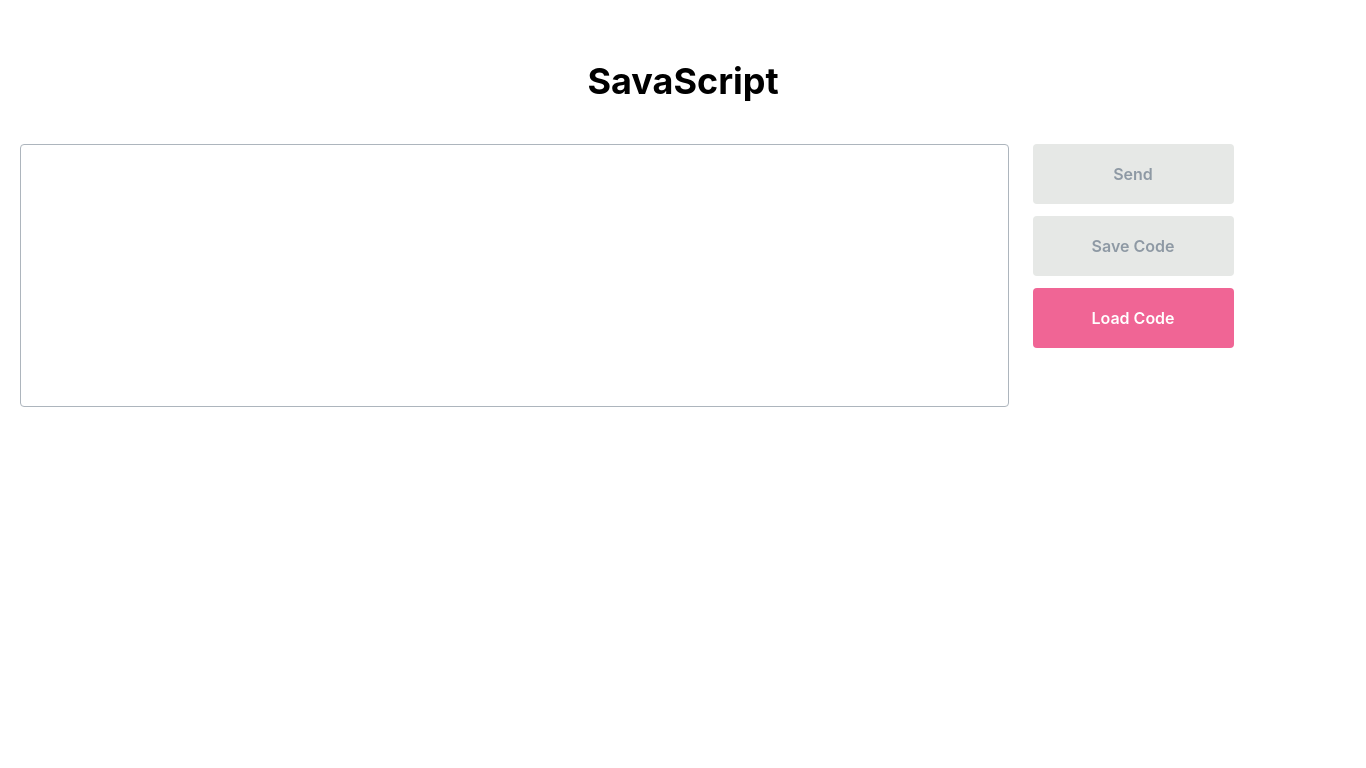
it: Button Save › Valid input and empty name
Type "2+4" into the text box at (515, 276), box [20,144,1009,407]
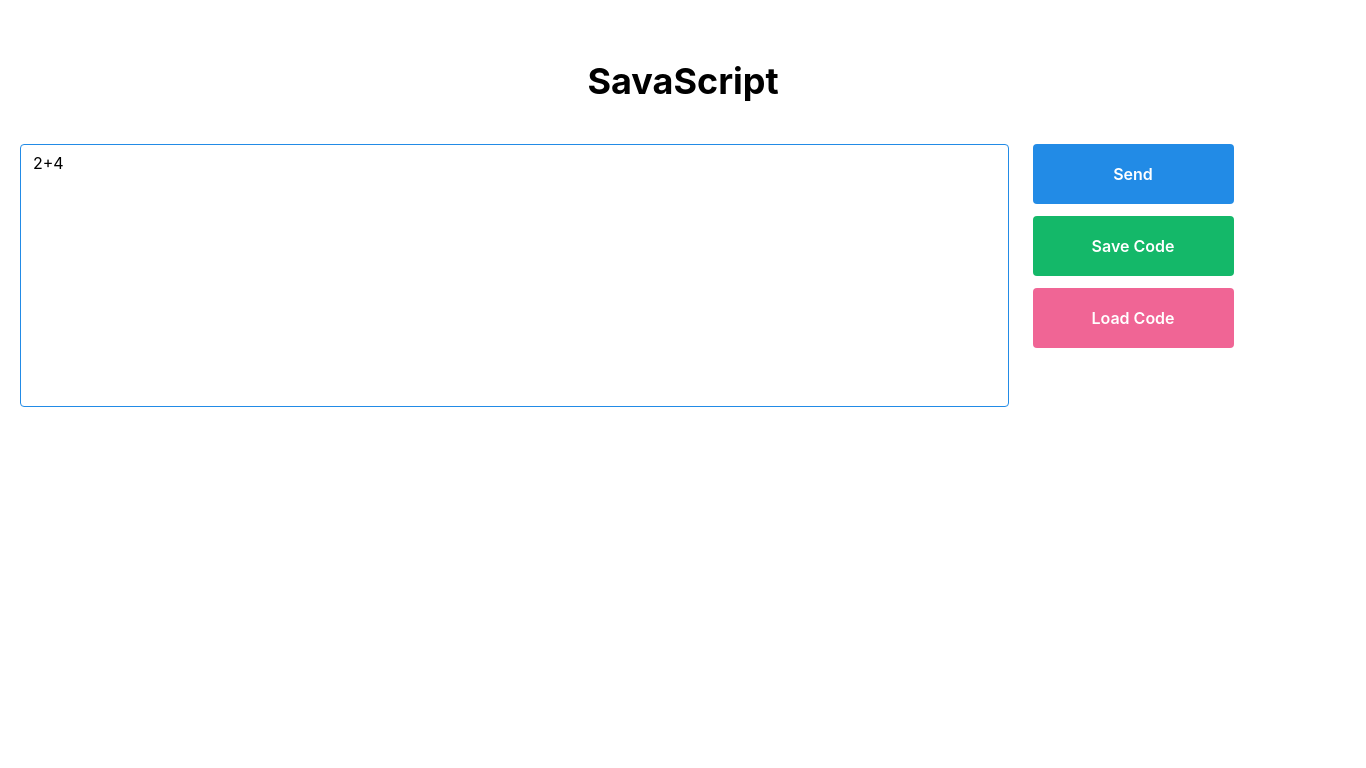
Click the button "Save Code" at (1134, 246), box [1033,216,1234,276]
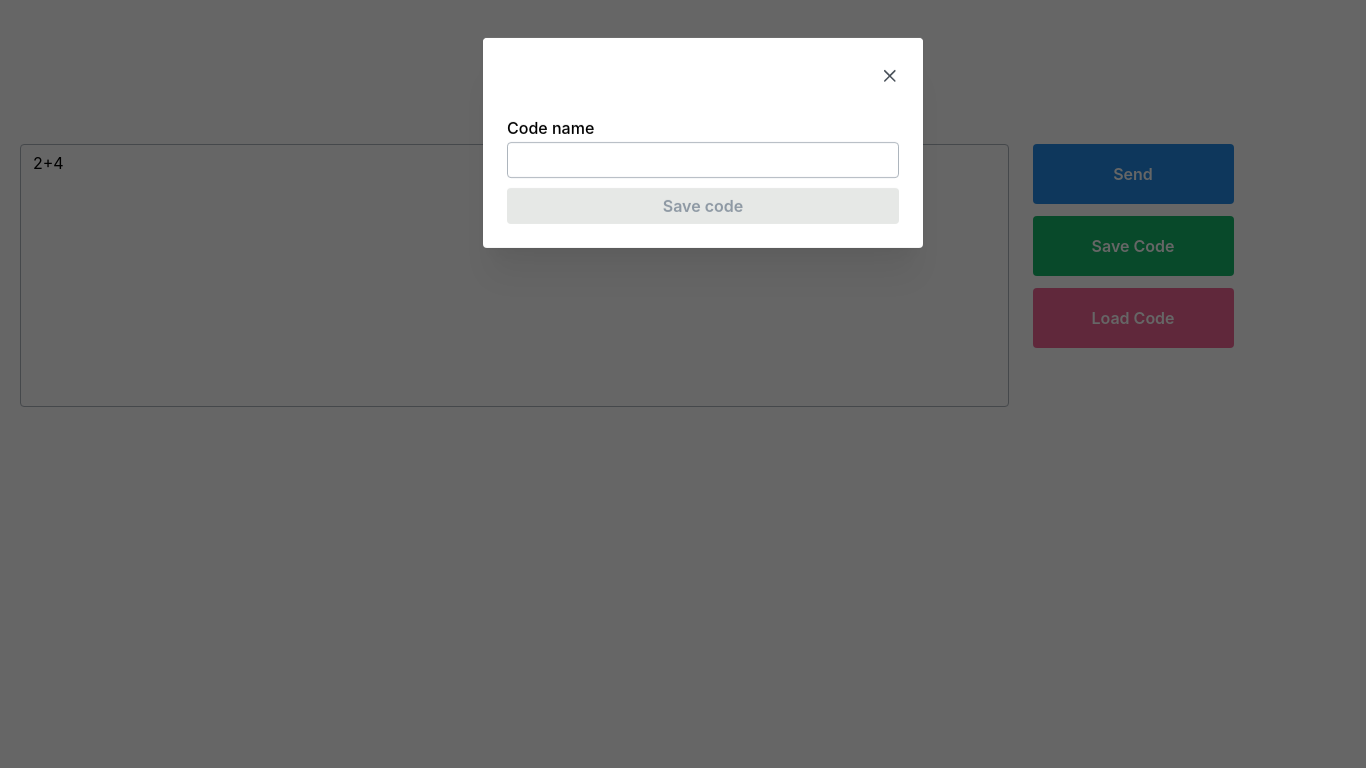
Result: the button "Save code" is disabled at [507,188,899,224]
